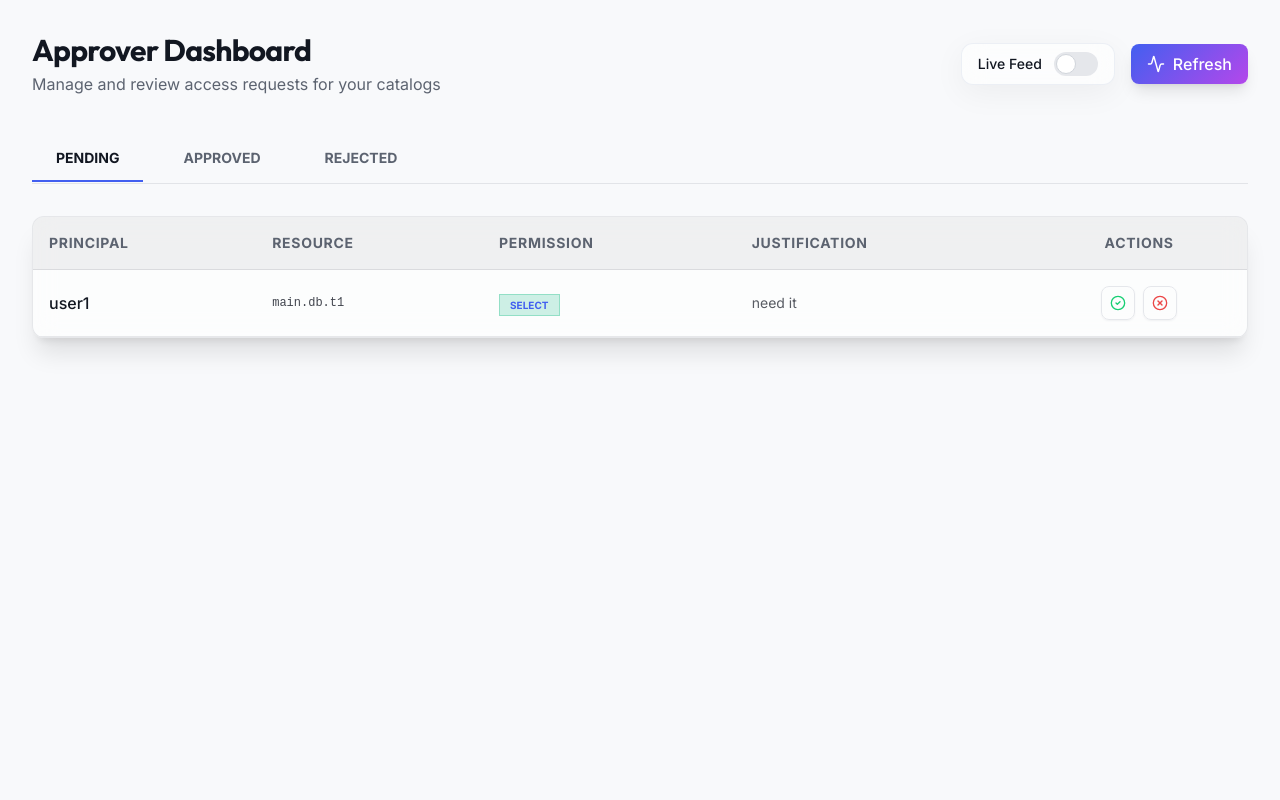
Test: ApproverDashboard › handles cancel in rejection modal
Check: the text "user1" is shown, box [33,270,256,336]
Click the button titled "Reject access". click: (1160, 303)
box: [1143,286,1177,320]
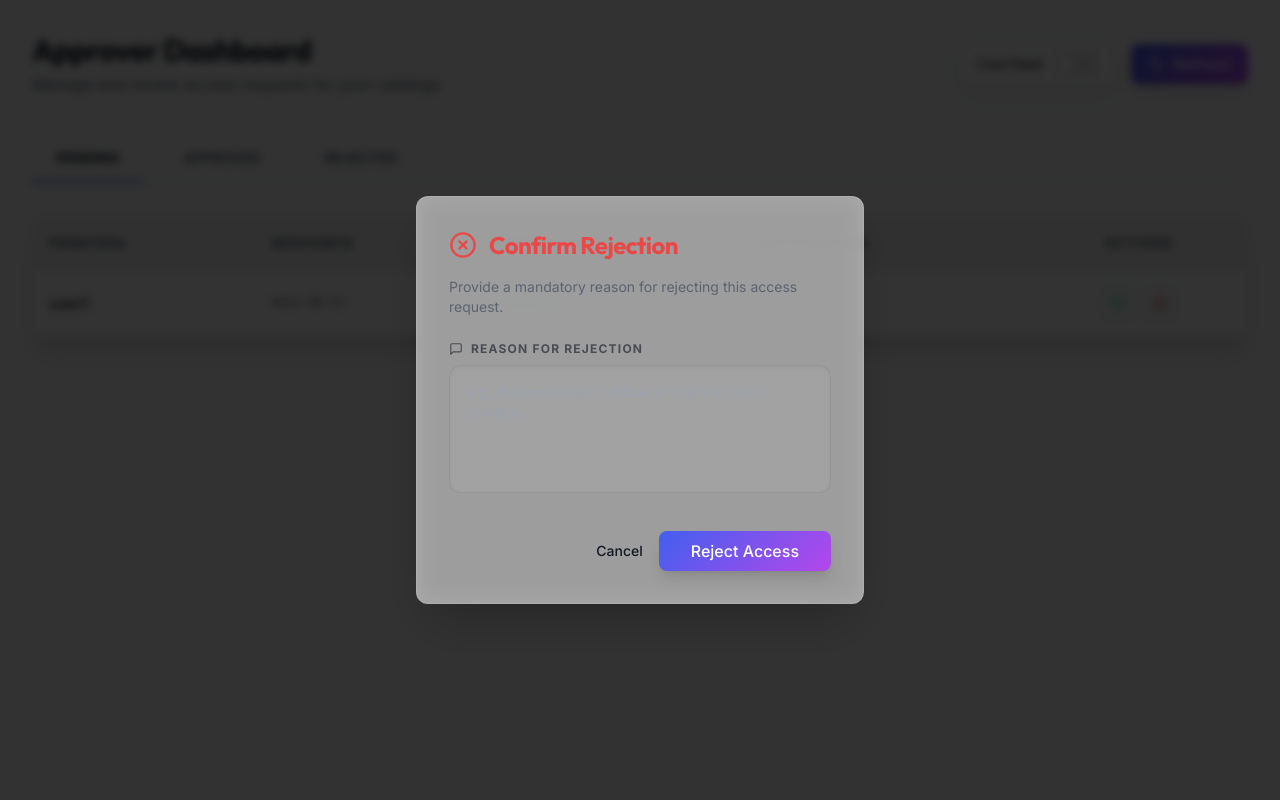
Click the button "Cancel". click: (620, 551)
box: [596,541,643,561]
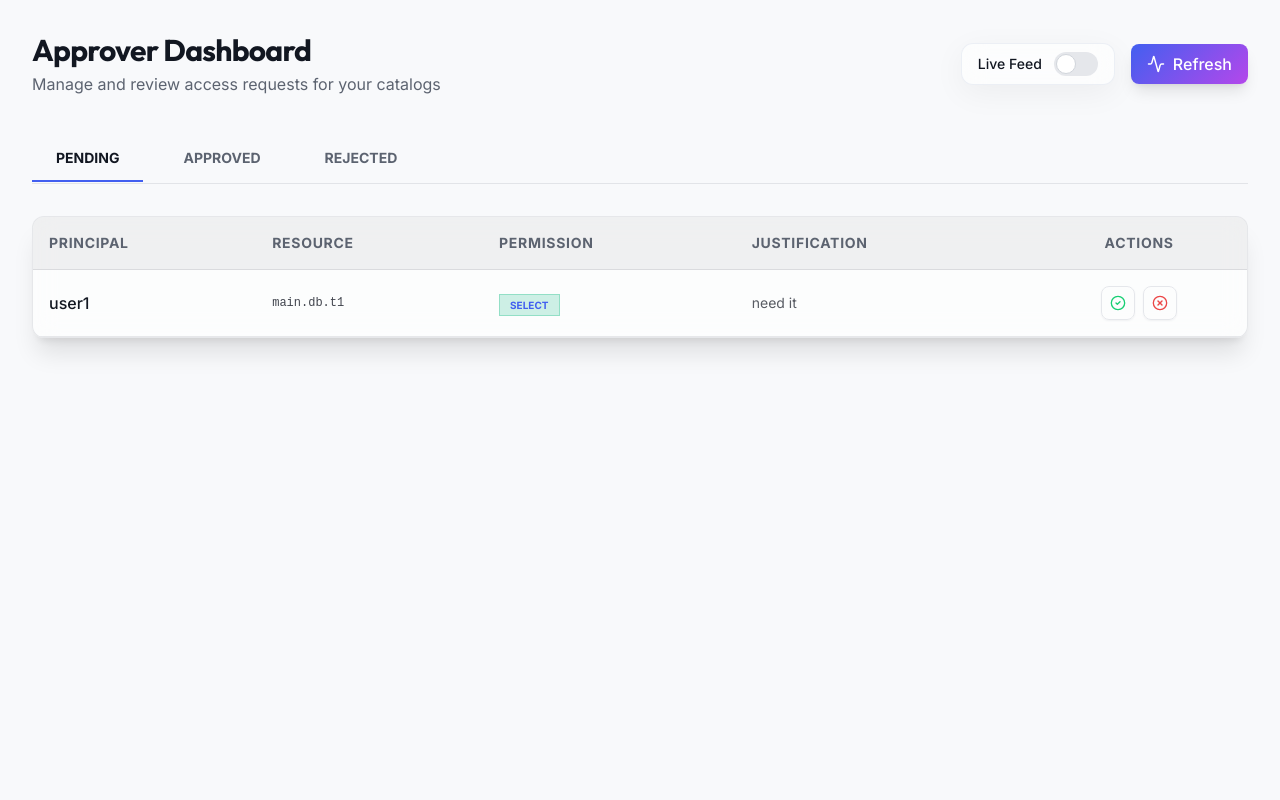
Check: the heading "Confirm Rejection" is gone
